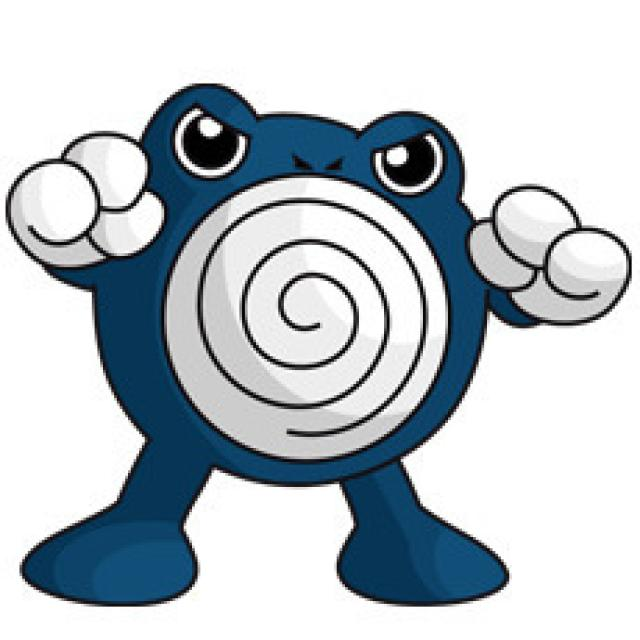Poliwhirl: (12, 82, 625, 608)
